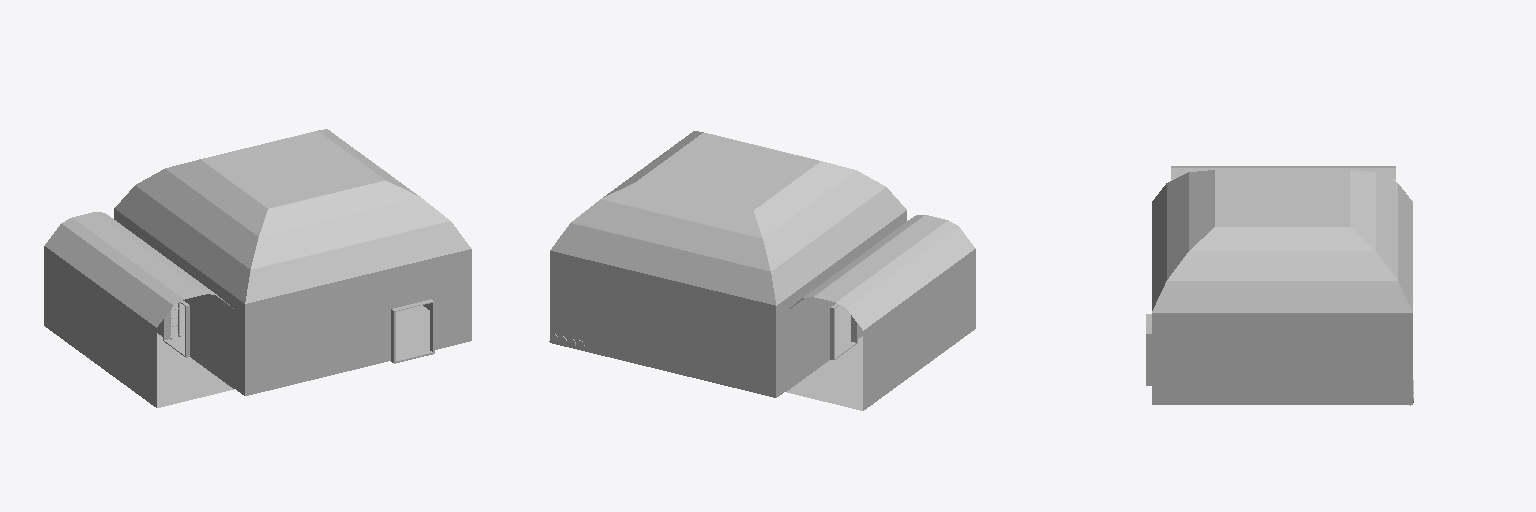
3 views of the same model, side by side, from view 1: azimuth 30°, elevation 25°; view 2: azimuth 150°, elevation 25°; view 3: azimuth 270°, elevation 25° (orthographic).
Visible parts, largest first — view 1: Object017, Object018; view 2: Object017, Object018; view 3: Object017, Object018.
Boxes of the visible parts, x1=… form: Object017: x1=114, y1=129, x2=471, y2=395; Object018: x1=44, y1=212, x2=233, y2=407; Object017: x1=550, y1=131, x2=906, y2=397; Object018: x1=786, y1=215, x2=975, y2=410; Object017: x1=1146, y1=170, x2=1412, y2=404; Object018: x1=1171, y1=166, x2=1395, y2=181.
Bounding box in the file's own units: 1515 × 717 × 1149.